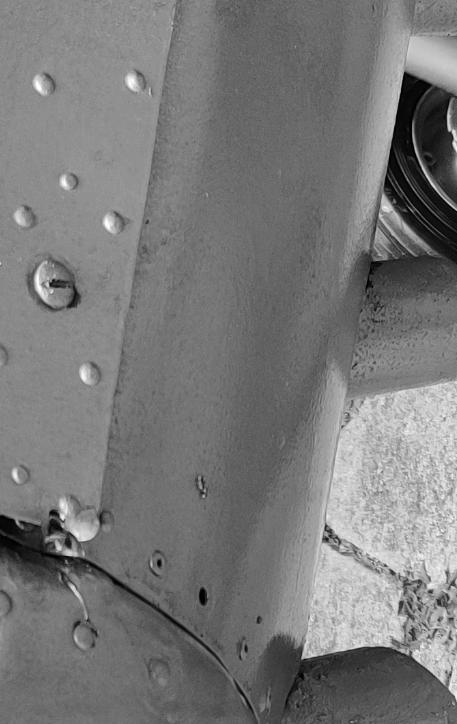dent: (0, 1, 457, 724)
